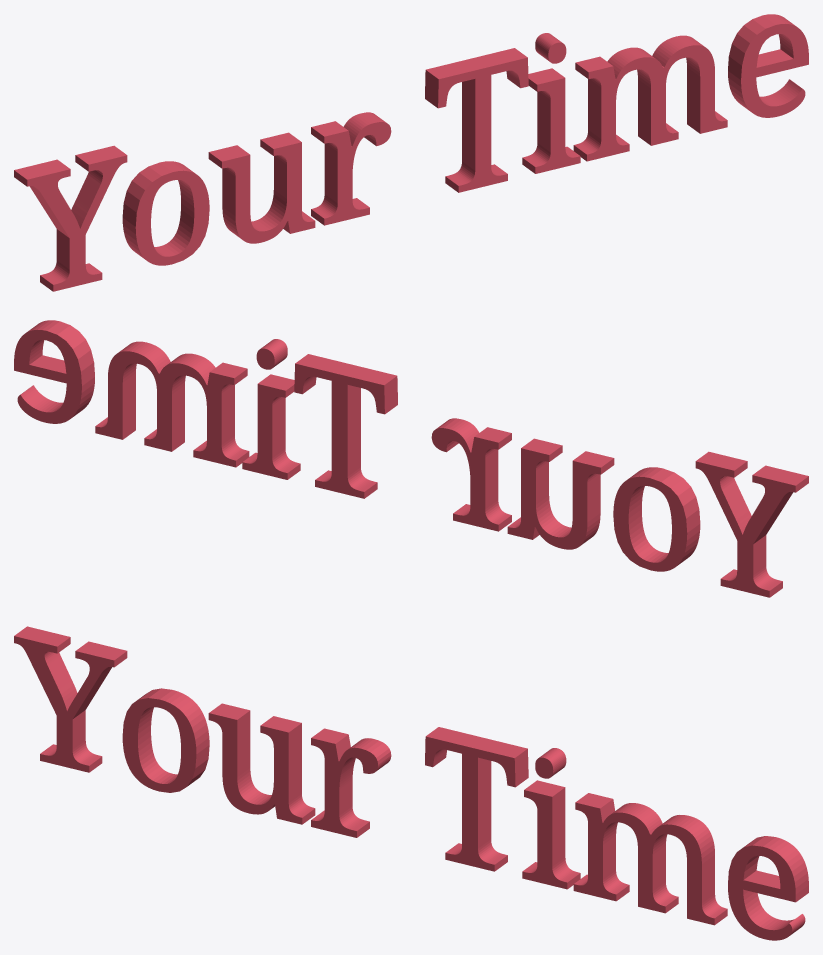
File: Title.fbx
The picture shows the model from 3 angles, top to bottom: view 1: azimuth 30°, elevation 25°; view 2: azimuth 150°, elevation 25°; view 3: azimuth 330°, elevation 25°; orthographic projection.
Parts seen in each view (by area): view 1: tinker:group_0_15277357; view 2: tinker:group_0_15277357; view 3: tinker:group_0_15277357.
Part boxes in pixels (x1,y1,x2,y2): tinker:group_0_15277357: (14, 14, 808, 291); tinker:group_0_15277357: (14, 320, 808, 597); tinker:group_0_15277357: (14, 626, 808, 940).
Bounding box in the file's own units: 137 × 21.38 × 4.
